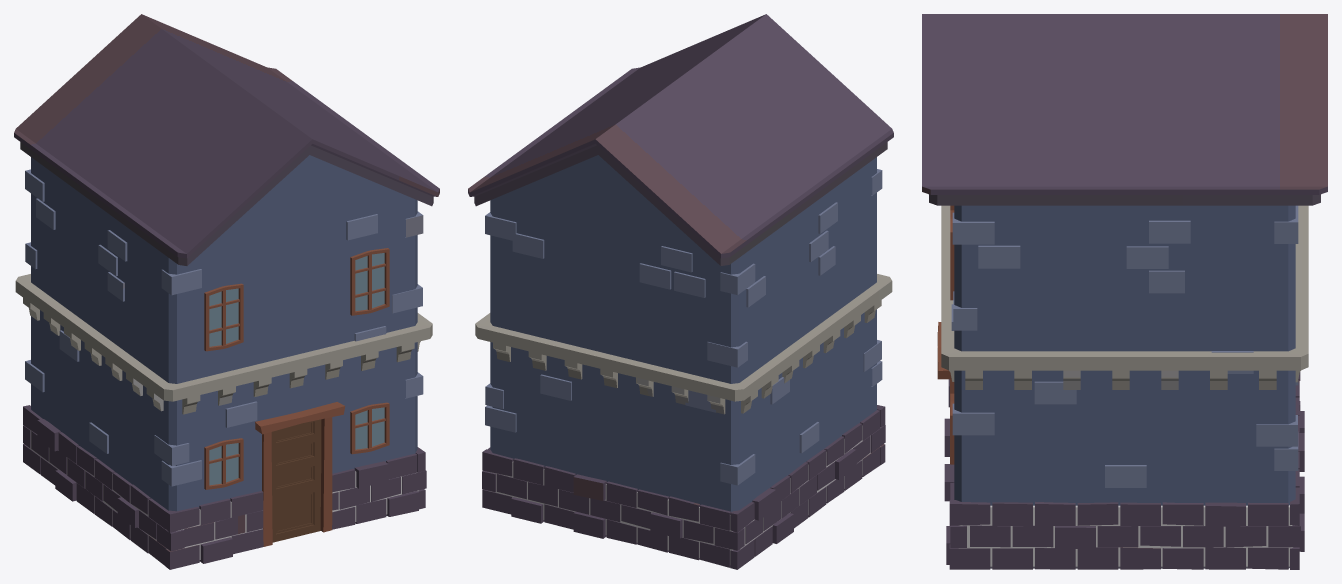
Rendered from 2Story GableRoof.glb.
3 renders of one model, left to right at view 1: azimuth 30°, elevation 25°; view 2: azimuth 150°, elevation 25°; view 3: azimuth 270°, elevation 25°, orthographic. The views are drawn at different scales.
Parts seen in each view (by area): view 1: 2Story_GableRoof; view 2: 2Story_GableRoof; view 3: 2Story_GableRoof.
Boxes of the visible parts, x1=… form: 2Story_GableRoof: x1=14, y1=14, x2=439, y2=569; 2Story_GableRoof: x1=468, y1=14, x2=893, y2=569; 2Story_GableRoof: x1=922, y1=14, x2=1327, y2=569.
Size of the model in its own units: 5.18 by 7.52 by 5.71.
Materials: 1 (1 with a texture image).
